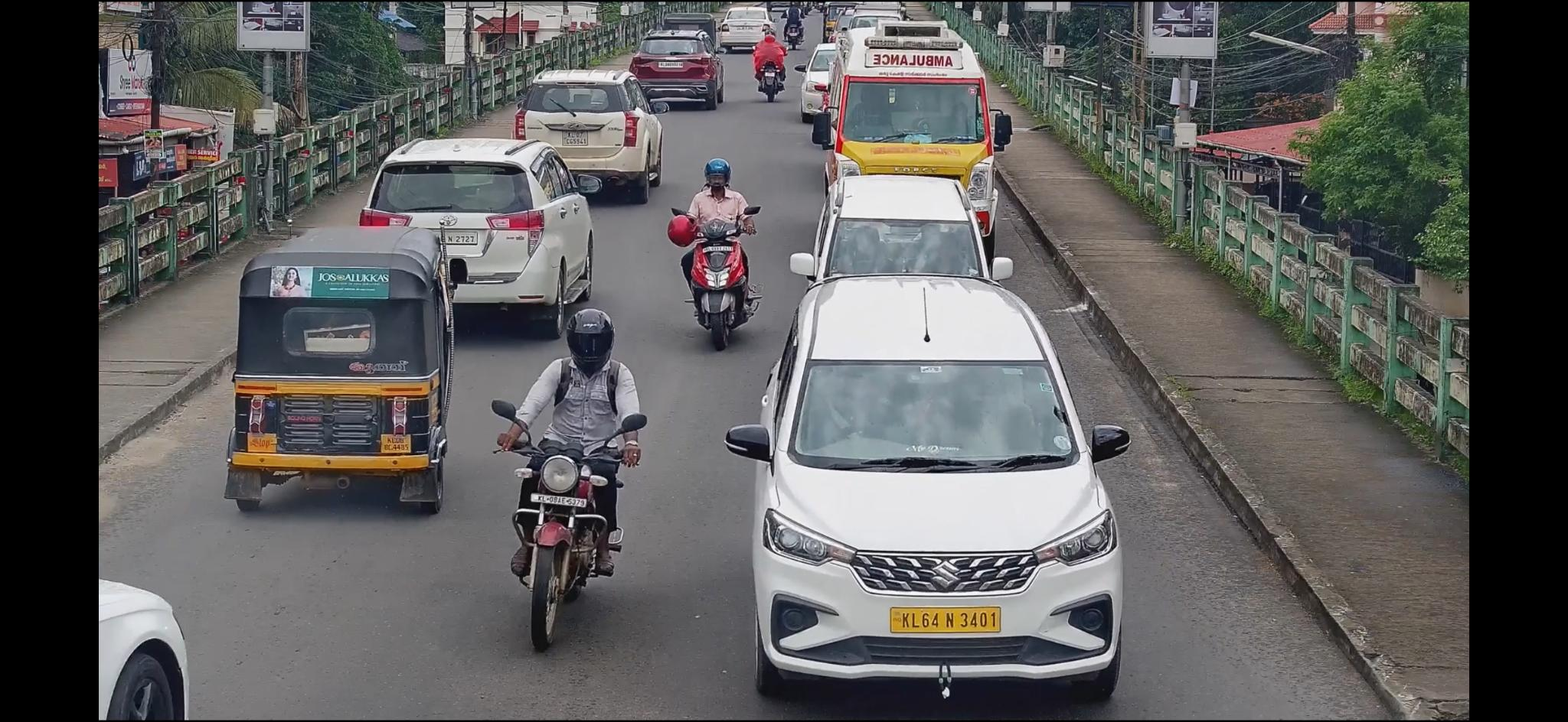ambulance: (824, 22, 1004, 262)
